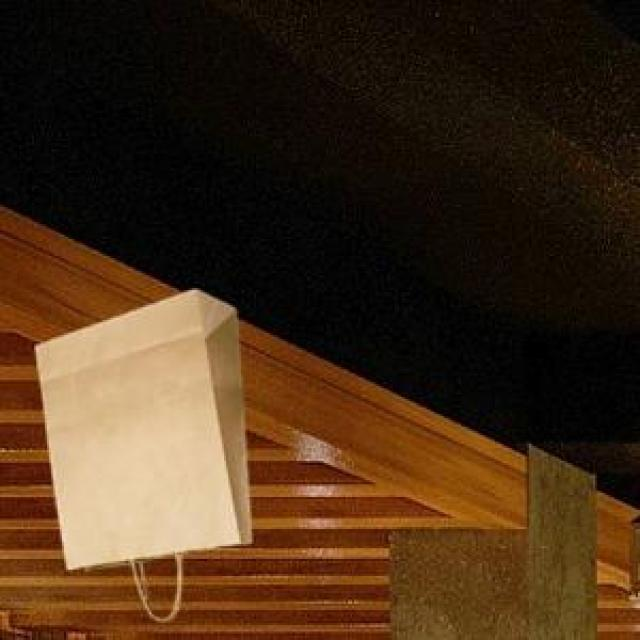paper: (32, 286, 248, 617)
